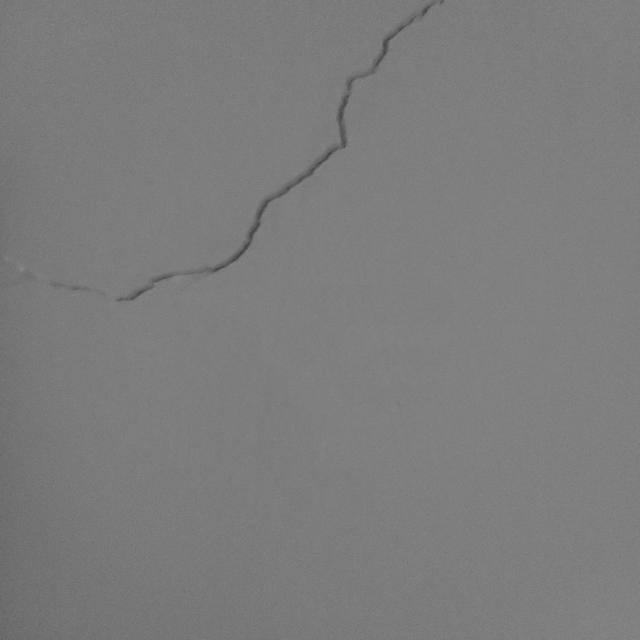rough and patchy surface: (0, 0, 468, 311)
